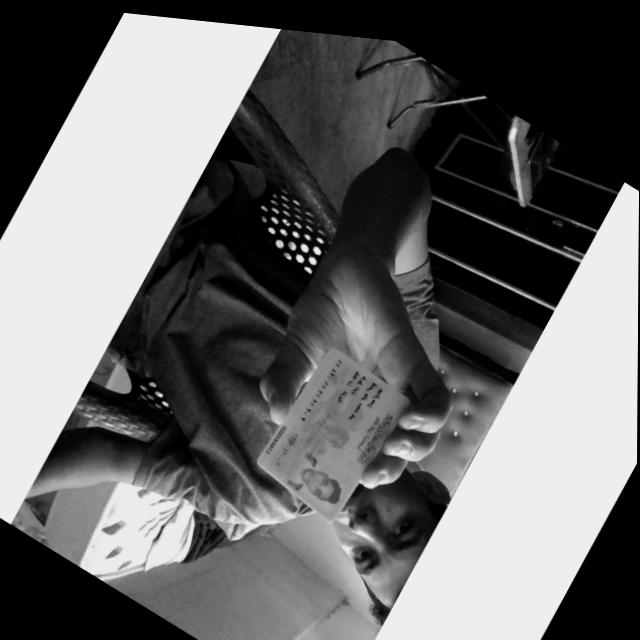front: (258, 347, 409, 522)
